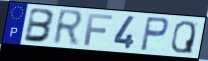4: (112, 15, 137, 51)
B: (22, 7, 56, 44)
F: (82, 13, 114, 47)
P: (139, 15, 170, 53)
Q: (170, 20, 197, 55)
R: (52, 8, 86, 48)
